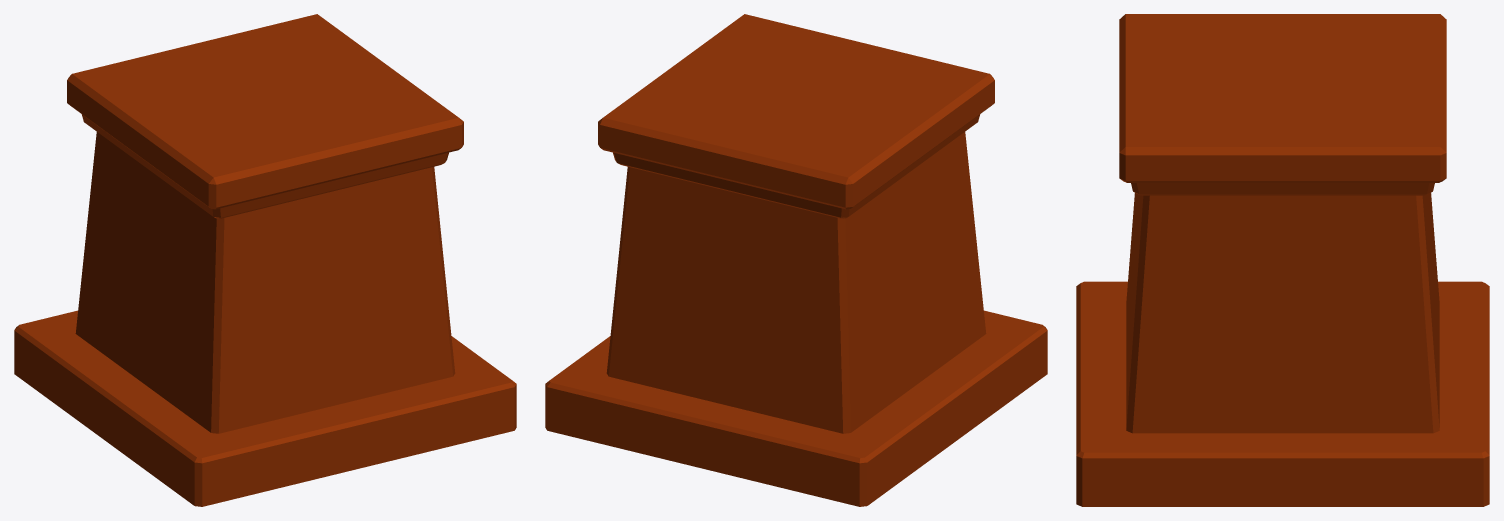
File: Small_Pilard.fbx
The picture shows the model from 3 angles, left to right: view 1: azimuth 30°, elevation 25°; view 2: azimuth 150°, elevation 25°; view 3: azimuth 270°, elevation 25°; orthographic projection. The views are drawn at different scales.
Visible parts, largest first — view 1: Small_Pilard; view 2: Small_Pilard; view 3: Small_Pilard.
Part boxes in pixels (left/top/right/bottom): Small_Pilard: left=14, top=14, right=516, bottom=506; Small_Pilard: left=545, top=14, right=1047, bottom=506; Small_Pilard: left=1076, top=14, right=1489, bottom=506.
Size of the model in its own units: 0.5819 by 0.5264 by 0.5819.
